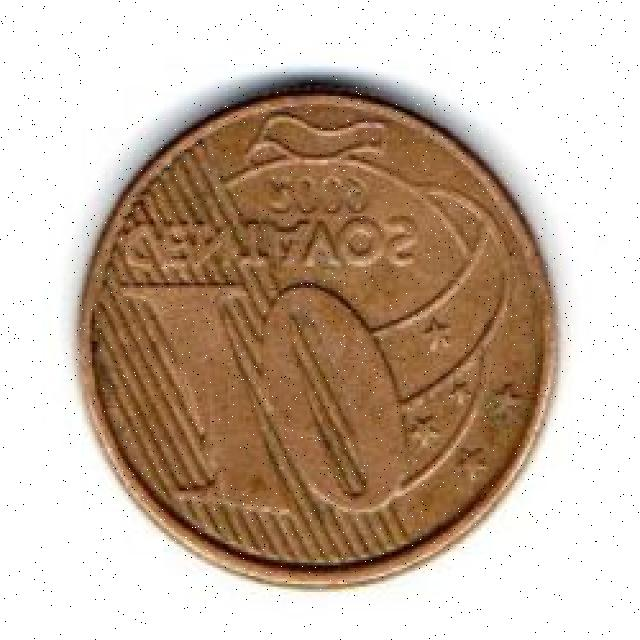10 cent: (75, 81, 561, 593)
